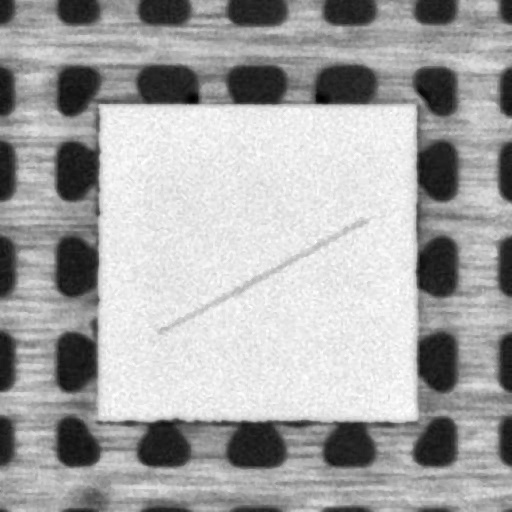DIE_CRACK: (157, 220, 363, 334)
